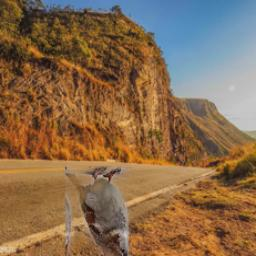Sparrow: (65, 166, 132, 256)
